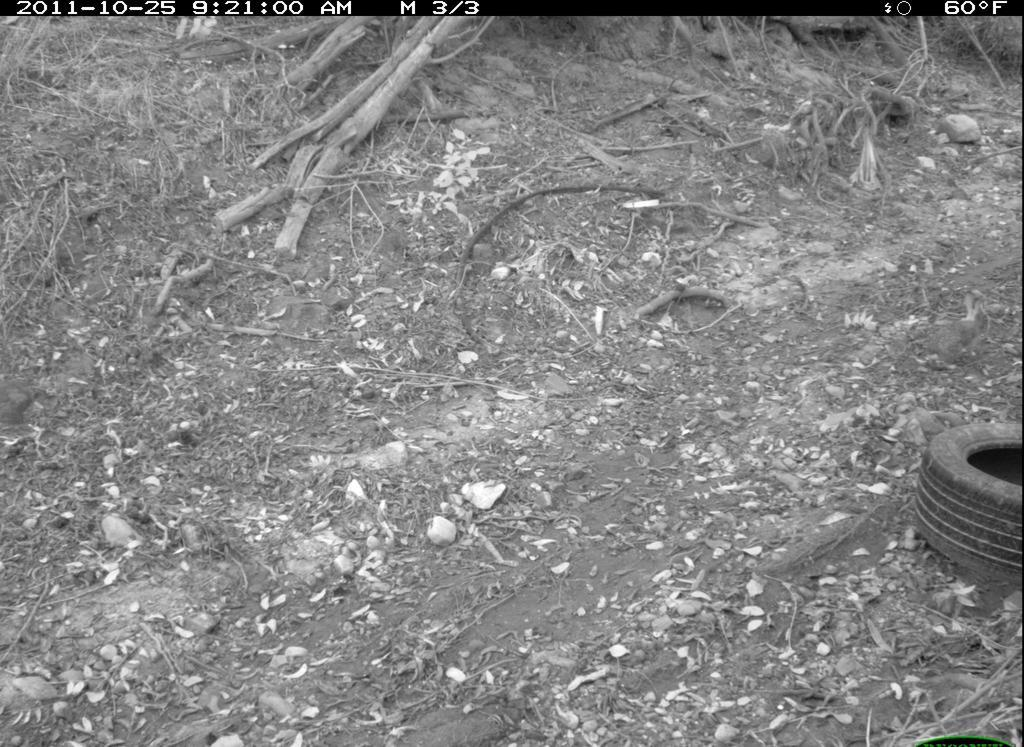rabbit: (927, 290, 996, 376)
